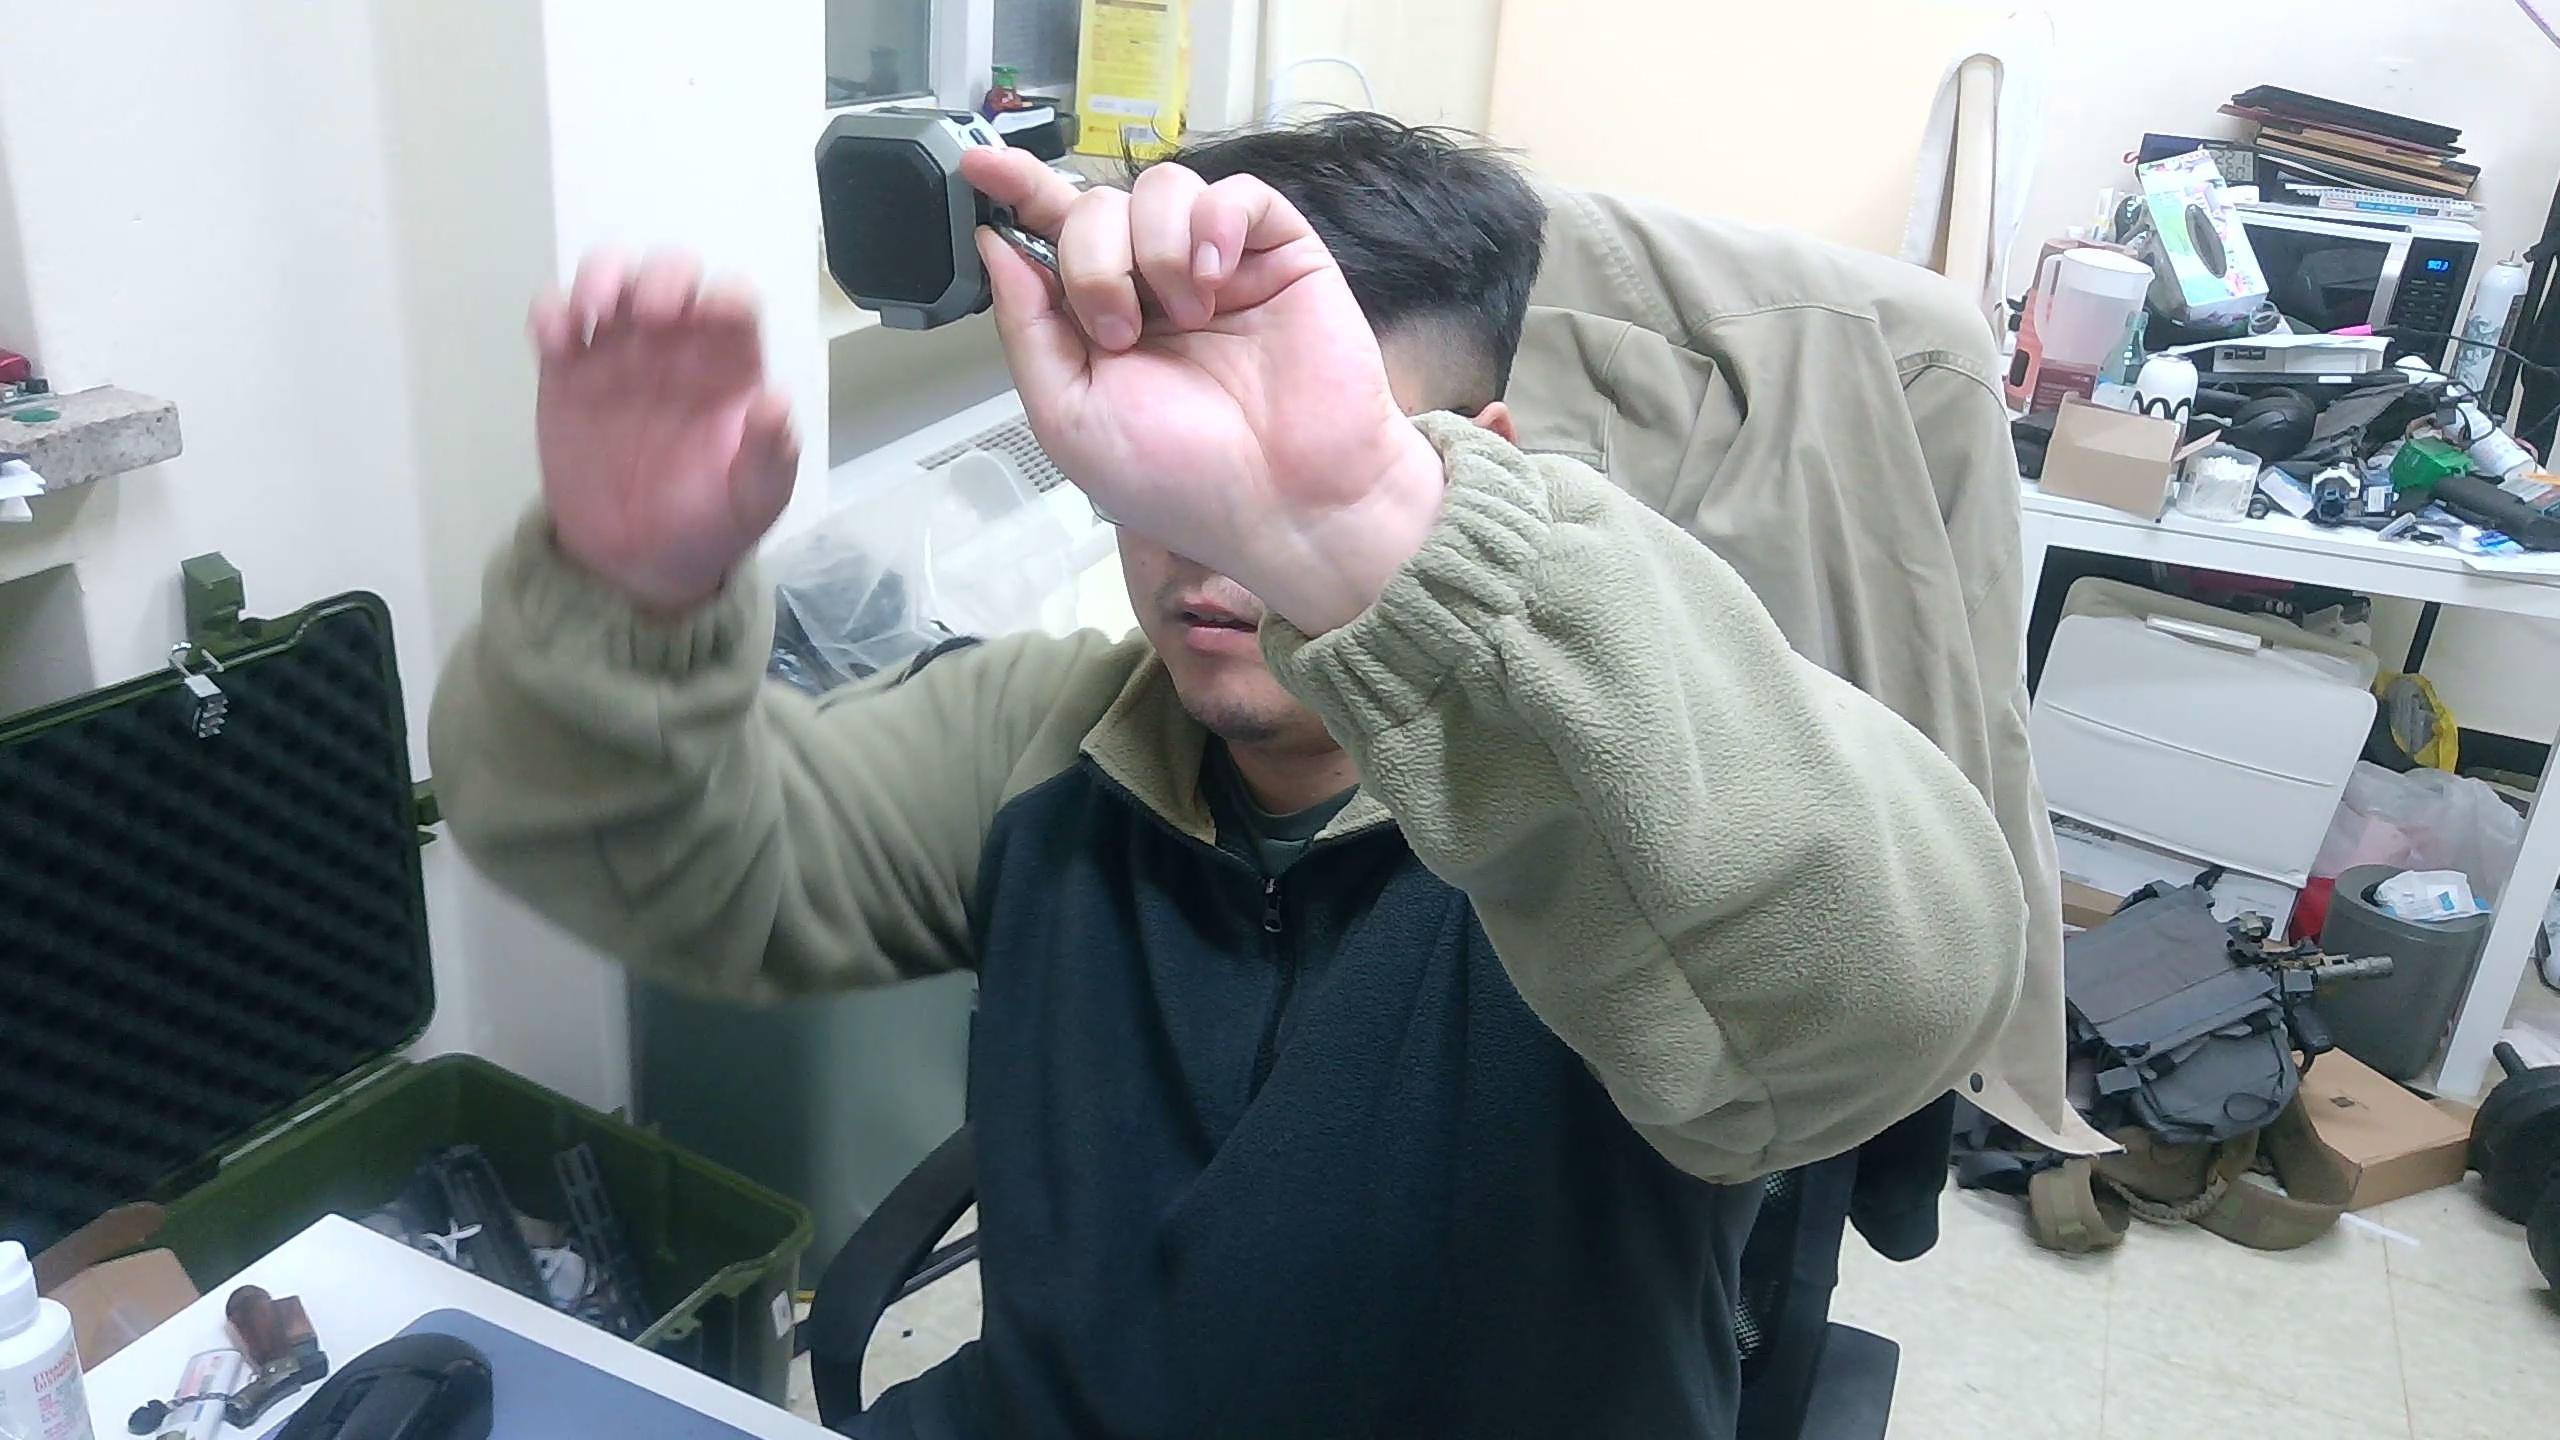blue_pliers: (816, 100, 1065, 334)
